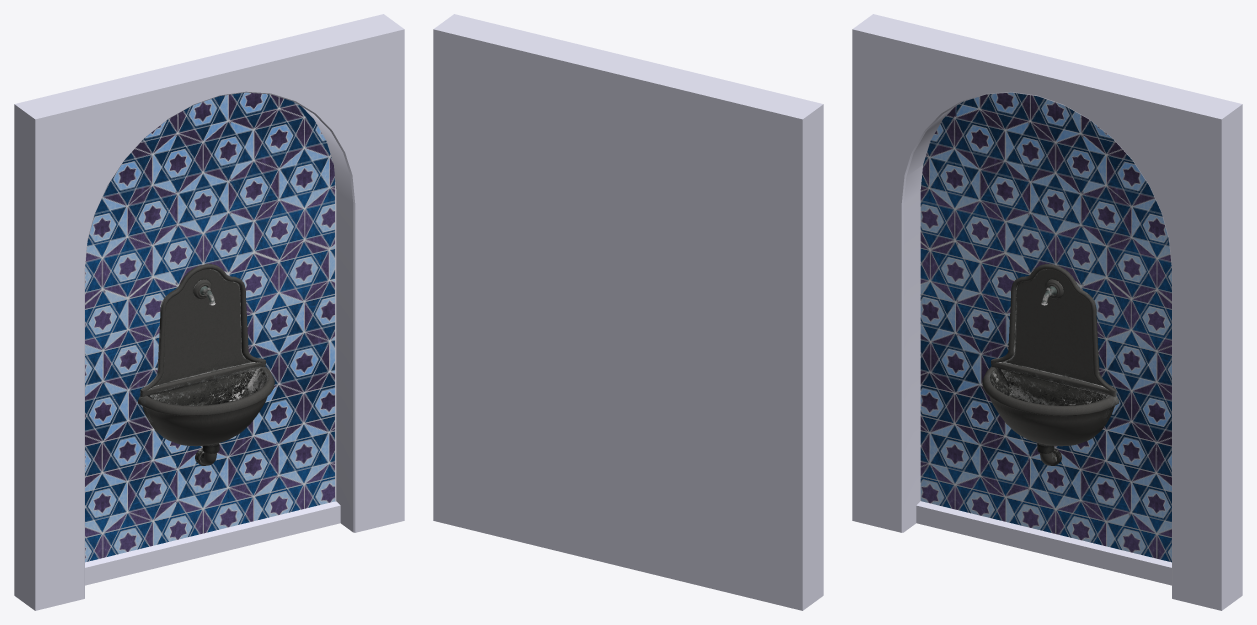
Rendered from mdl_paprika_fountain.gltf.
The picture shows the model from 3 angles, left to right: view 1: azimuth 30°, elevation 25°; view 2: azimuth 150°, elevation 25°; view 3: azimuth 330°, elevation 25°; orthographic projection.
Parts seen in each view (by area): view 1: Alcove_10, Back_7, Bassin_0; view 2: Alcove_10; view 3: Alcove_10, Back_7, Bassin_0.
Boxes of the visible parts, bbox=[...] form: Alcove_10: bbox=[14, 14, 404, 610]; Back_7: bbox=[140, 264, 265, 396]; Bassin_0: bbox=[138, 367, 274, 446]; Alcove_10: bbox=[433, 14, 823, 610]; Alcove_10: bbox=[852, 14, 1242, 610]; Back_7: bbox=[991, 264, 1116, 396]; Bassin_0: bbox=[982, 367, 1118, 446].
Bounding box in the file's own units: 1.5 × 1.9 × 0.248.
Materials: 2 (2 with a texture image).
